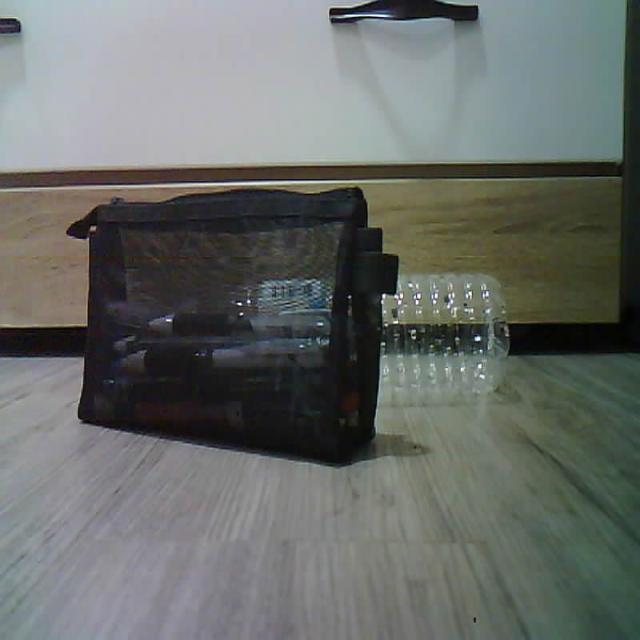bottle: (382, 272, 510, 402)
